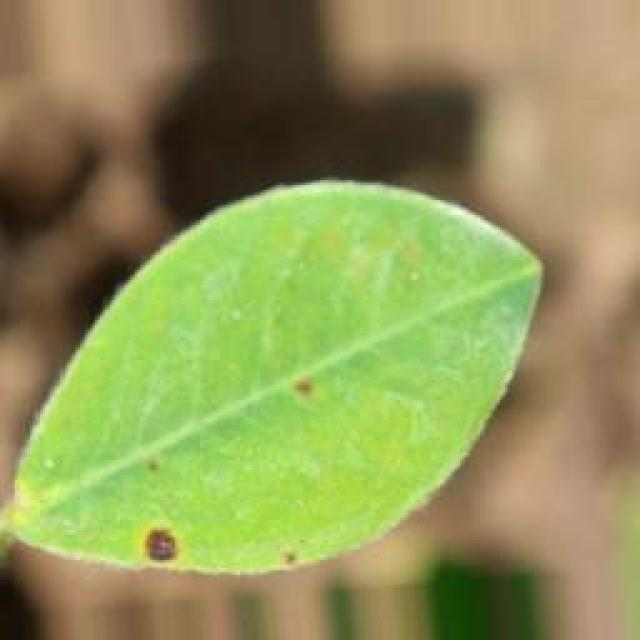Sigatoka: (137, 515, 196, 561), (294, 349, 329, 413), (263, 540, 312, 570)
